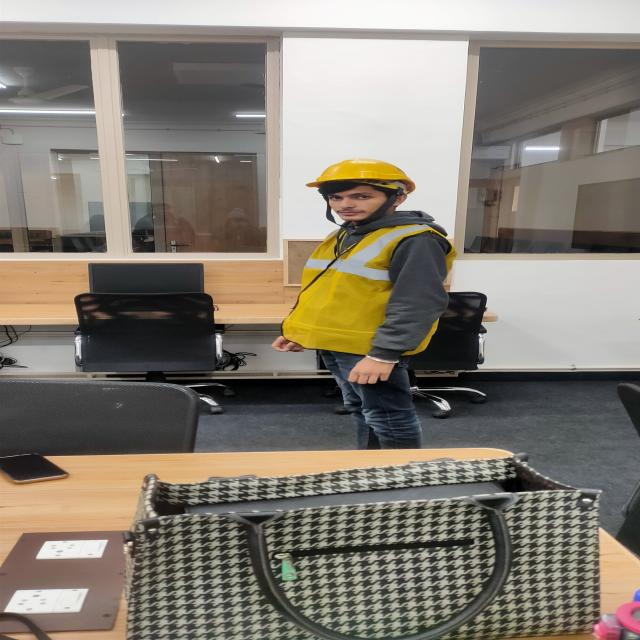safe: (277, 155, 465, 453)
